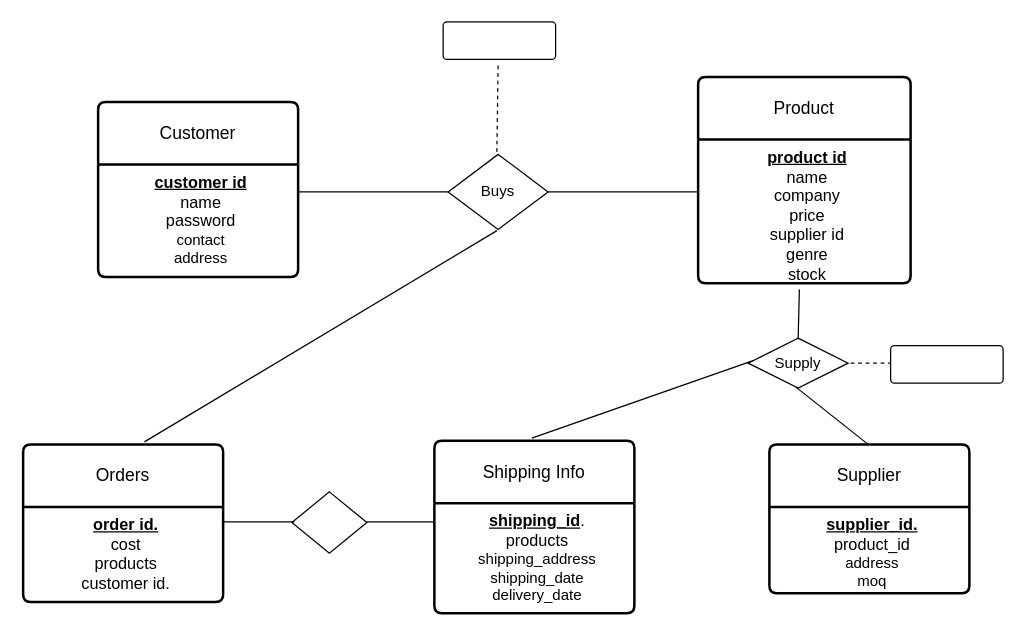
Some shapes in this 1025 by 636 pixel diagram are drawn without their labels. Here are the shapes that lost their labels. From the top down, the centre of each, then its label:
At point 499,40: "Review".
At point 946,363: "Quantity".
At point 329,522: "Deliver".
